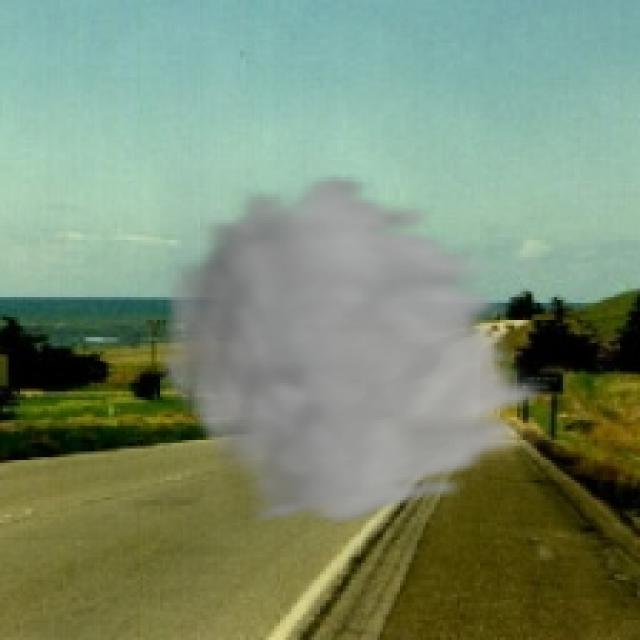smoke: (151, 168, 560, 528)
